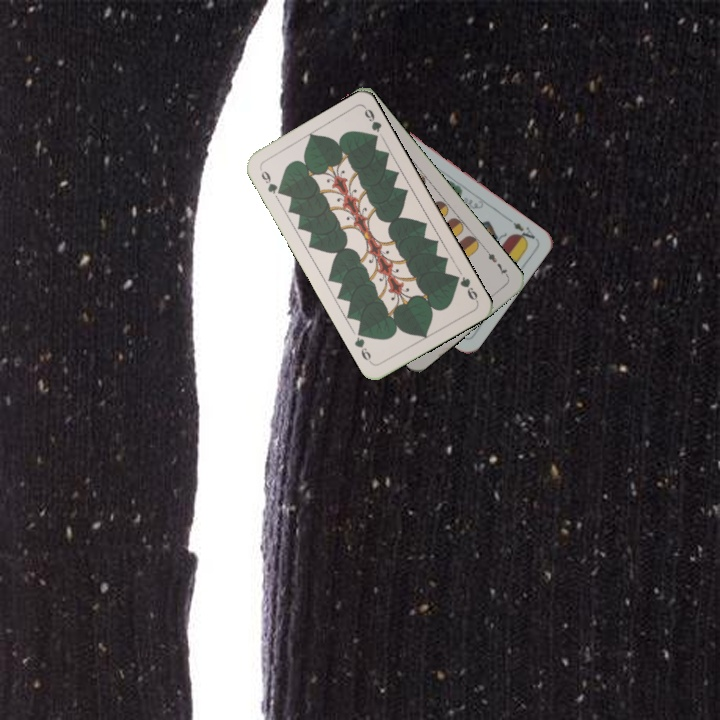E7: (482, 246, 511, 280)
EA: (503, 214, 538, 246)
G9: (449, 271, 481, 305), (257, 167, 285, 198)
